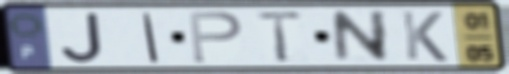I: (140, 11, 162, 64)
J: (59, 11, 107, 64)
K: (398, 9, 451, 64)
N: (329, 8, 392, 64)
P: (186, 10, 246, 66)
T: (254, 9, 306, 64)
